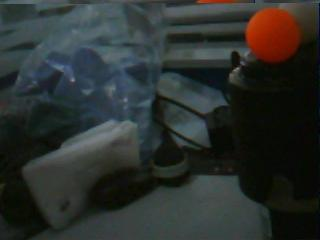oball: (248, 8, 301, 57)
